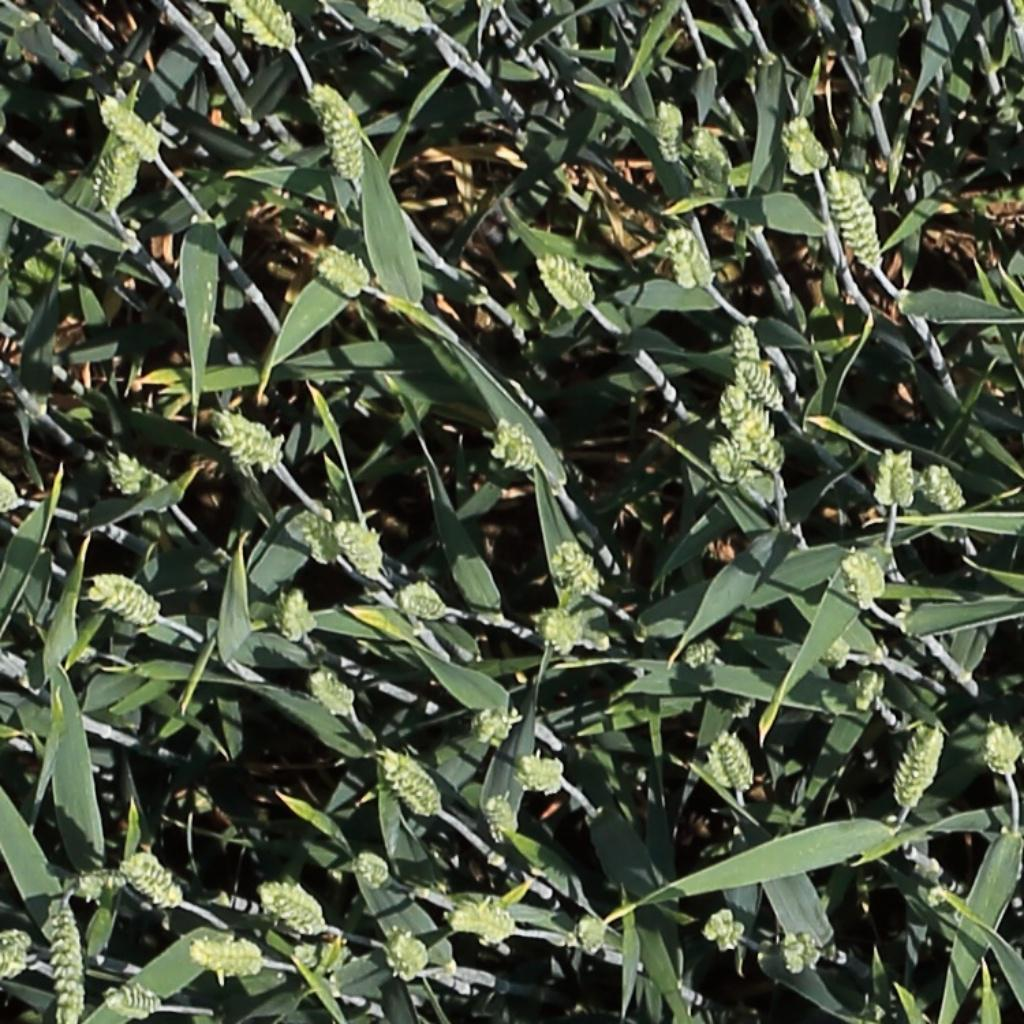0-0: (714, 394, 791, 475), (830, 163, 883, 273), (312, 86, 365, 177), (897, 724, 946, 813), (98, 92, 163, 159), (88, 567, 164, 623), (379, 752, 443, 817), (530, 601, 611, 652), (308, 80, 368, 146), (234, 0, 307, 52), (666, 221, 716, 293), (869, 441, 917, 514), (290, 506, 345, 569), (330, 517, 385, 580), (539, 251, 598, 309), (728, 323, 767, 410), (53, 897, 80, 1022), (258, 884, 327, 932), (735, 357, 791, 416), (99, 132, 139, 214), (689, 117, 737, 184), (121, 858, 182, 910), (715, 729, 759, 800), (217, 416, 282, 464), (785, 110, 832, 176), (555, 537, 603, 599), (842, 547, 890, 608), (450, 893, 518, 936), (308, 247, 368, 292), (921, 461, 970, 516), (518, 752, 573, 801), (387, 922, 431, 983), (492, 419, 539, 473), (307, 669, 357, 719), (561, 908, 609, 960), (481, 790, 522, 847), (984, 719, 1021, 782), (465, 709, 526, 747), (397, 576, 448, 618), (694, 900, 741, 945), (658, 91, 685, 169), (712, 436, 753, 484), (282, 585, 312, 649), (846, 664, 888, 709), (780, 929, 811, 983), (816, 626, 850, 675), (189, 946, 264, 968), (353, 851, 391, 894), (73, 869, 124, 901), (371, 1, 431, 28), (291, 943, 345, 972), (103, 996, 163, 1015), (682, 643, 722, 667), (0, 932, 30, 962), (0, 461, 15, 505)
